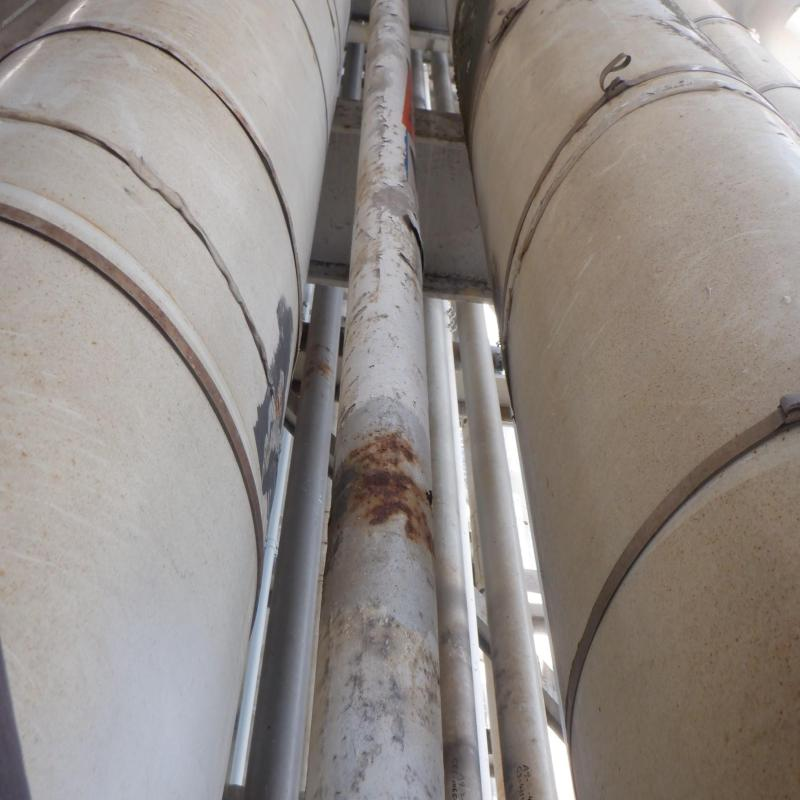corrosion: (352, 436, 413, 522)
